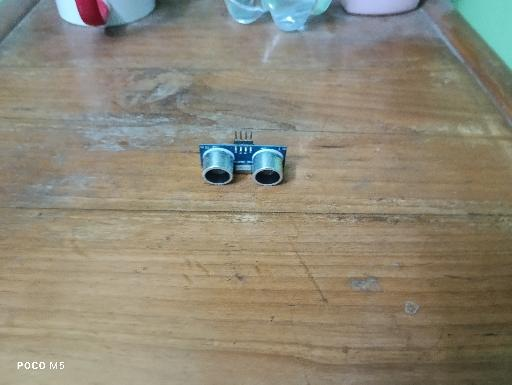sensor: (197, 129, 288, 187)
